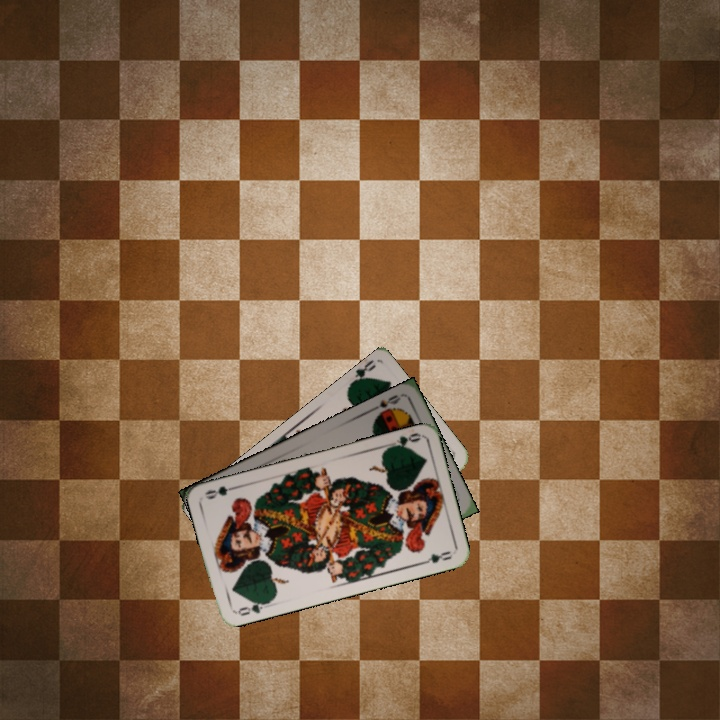GO: (345, 358, 379, 390), (383, 429, 423, 451), (232, 597, 272, 619)
SO: (366, 391, 404, 422)
